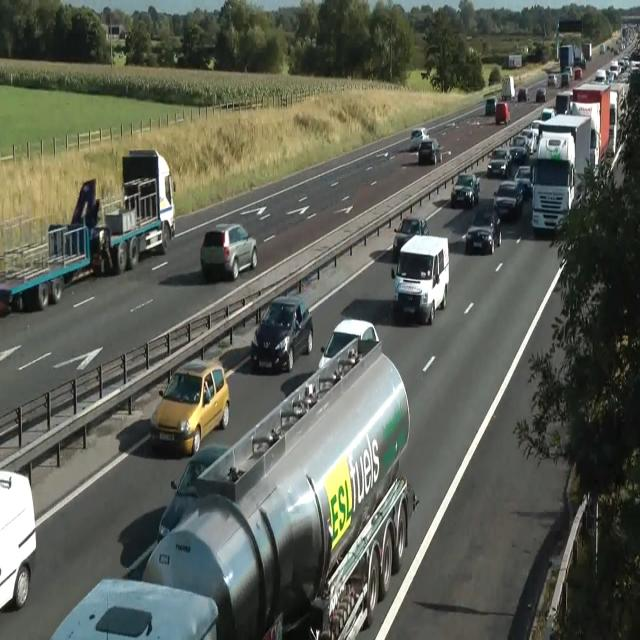bus: (157, 342, 363, 543), (49, 577, 219, 639), (150, 357, 230, 456), (0, 468, 36, 612), (318, 317, 381, 371), (464, 208, 502, 255), (392, 215, 428, 260), (486, 148, 512, 178), (513, 165, 533, 198), (418, 138, 442, 164), (509, 134, 529, 162), (520, 128, 538, 154), (410, 127, 430, 150), (594, 68, 612, 85), (485, 98, 497, 116), (541, 107, 555, 121), (517, 87, 529, 102), (536, 87, 546, 102), (547, 74, 557, 86), (574, 67, 582, 80), (599, 43, 605, 53)
car: (49, 334, 418, 638), (530, 112, 598, 235)
jeep: (391, 234, 449, 324), (250, 294, 314, 372), (199, 222, 257, 281), (493, 178, 523, 218), (450, 172, 480, 208), (494, 100, 510, 124)
minibus: (0, 147, 176, 313), (531, 64, 639, 236), (90, 147, 176, 276), (559, 42, 585, 74), (501, 76, 515, 100), (508, 54, 522, 68)
